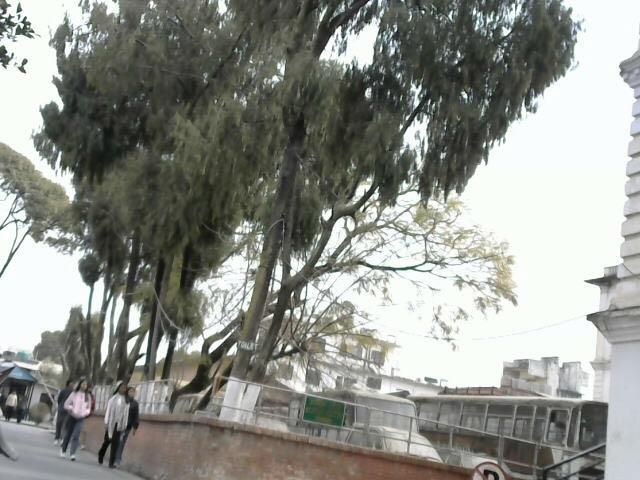Person: (59, 367, 103, 476), (95, 374, 145, 469)
Tree: (71, 3, 593, 351)
